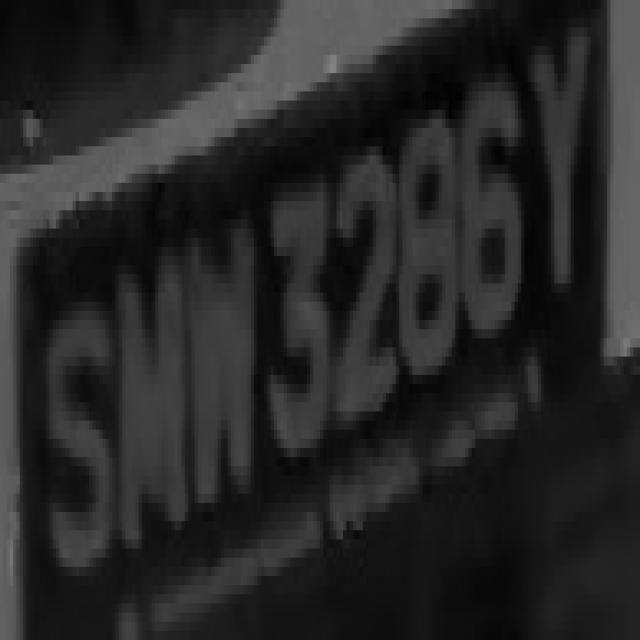2: (320, 119, 399, 484)
3: (264, 174, 330, 503)
6: (446, 46, 522, 393)
8: (389, 91, 459, 412)
M: (102, 265, 182, 576)
S: (33, 302, 119, 612)
W: (178, 238, 261, 539)
Y: (518, 9, 607, 338)
